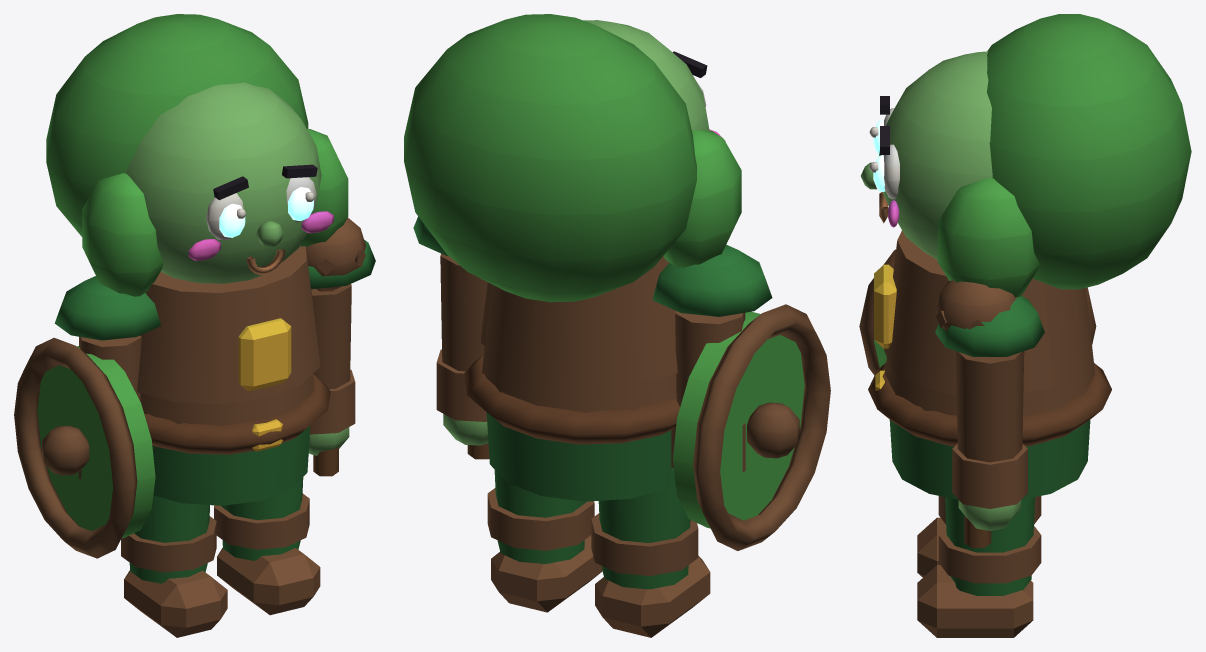
File: hero_bramble.glb
3 views of the same model, side by side, from view 1: azimuth 30°, elevation 25°; view 2: azimuth 150°, elevation 25°; view 3: azimuth 270°, elevation 25° (orthographic). The views are drawn at different scales.
Visible parts, largest first — view 1: body_t0_palette, arml_t0_palette, legl_t0_palette, legr_t0_palette, armr_t0_palette, body_t0_glow_teal; view 2: body_t0_palette, arml_t0_palette, legl_t0_palette, legr_t0_palette, armr_t0_palette; view 3: body_t0_palette, armr_t0_palette, legr_t0_palette, arml_t0_palette, legl_t0_palette, body_t0_glow_teal.
Boxes of the visible parts, bbox=[...] form: body_t0_palette: bbox=[46, 14, 348, 505]; arml_t0_palette: bbox=[14, 276, 160, 558]; legl_t0_palette: bbox=[121, 495, 227, 637]; legr_t0_palette: bbox=[214, 477, 320, 615]; armr_t0_palette: bbox=[306, 218, 375, 476]; body_t0_glow_teal: bbox=[219, 187, 313, 237]; body_t0_palette: bbox=[404, 14, 741, 501]; arml_t0_palette: bbox=[653, 245, 830, 550]; legl_t0_palette: bbox=[591, 468, 710, 637]; legr_t0_palette: bbox=[487, 470, 602, 612]; armr_t0_palette: bbox=[413, 216, 489, 459]; body_t0_palette: bbox=[861, 14, 1191, 499]; armr_t0_palette: bbox=[935, 280, 1044, 547]; legr_t0_palette: bbox=[917, 497, 1041, 637]; arml_t0_palette: bbox=[859, 249, 1096, 375]; legl_t0_palette: bbox=[917, 496, 1041, 577]; body_t0_glow_teal: bbox=[873, 120, 885, 191].
Bounding box in the file's own units: 0.326 × 0.522 × 0.272.
